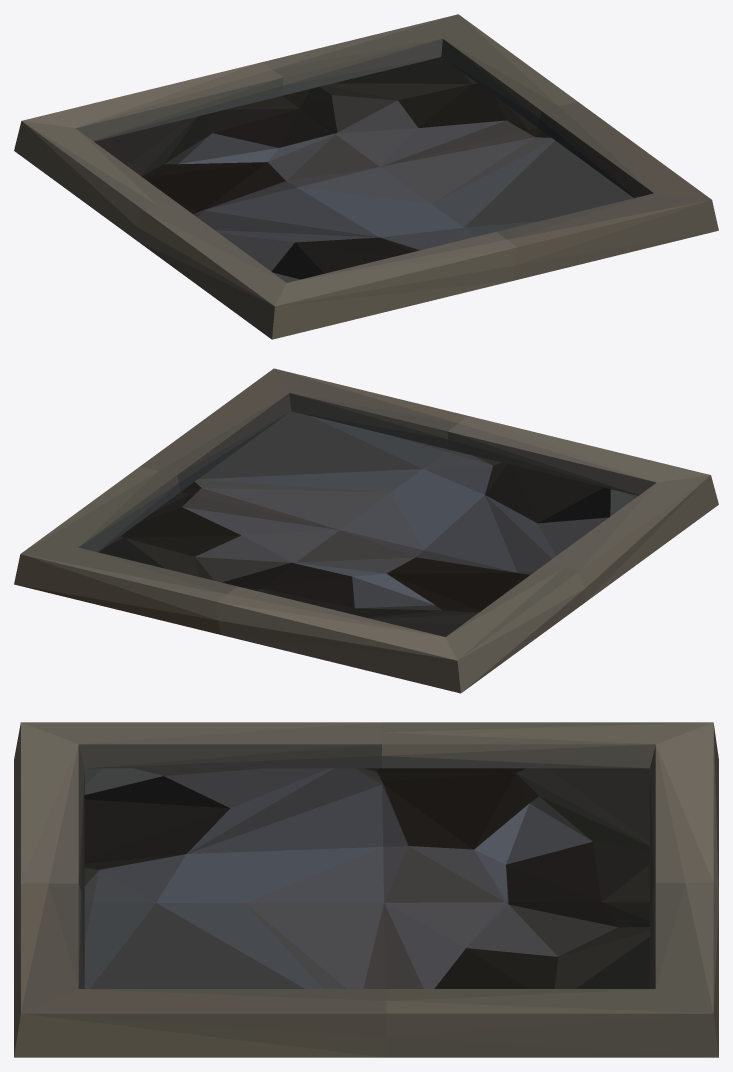
The model's file is floor_bordered_4m_2.fbx.
3 views of the same model, one above another, from view 1: azimuth 30°, elevation 25°; view 2: azimuth 150°, elevation 25°; view 3: azimuth 270°, elevation 25° (orthographic). The views are drawn at different scales.
Parts seen in each view (by area): view 1: floor_bordered_4m_2; view 2: floor_bordered_4m_2; view 3: floor_bordered_4m_2.
Boxes of the visible parts, left/top/right/bottom form: floor_bordered_4m_2: left=14, top=14, right=718, bottom=339; floor_bordered_4m_2: left=14, top=368, right=718, bottom=693; floor_bordered_4m_2: left=14, top=722, right=718, bottom=1057.
Size of the model in its own units: 4.01 by 0.2573 by 4.
